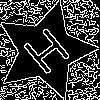H: (20, 25, 79, 84)
